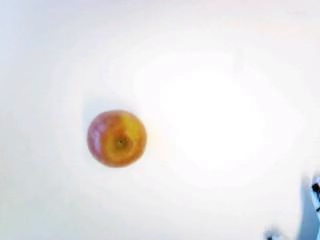apple: (87, 109, 147, 167)
